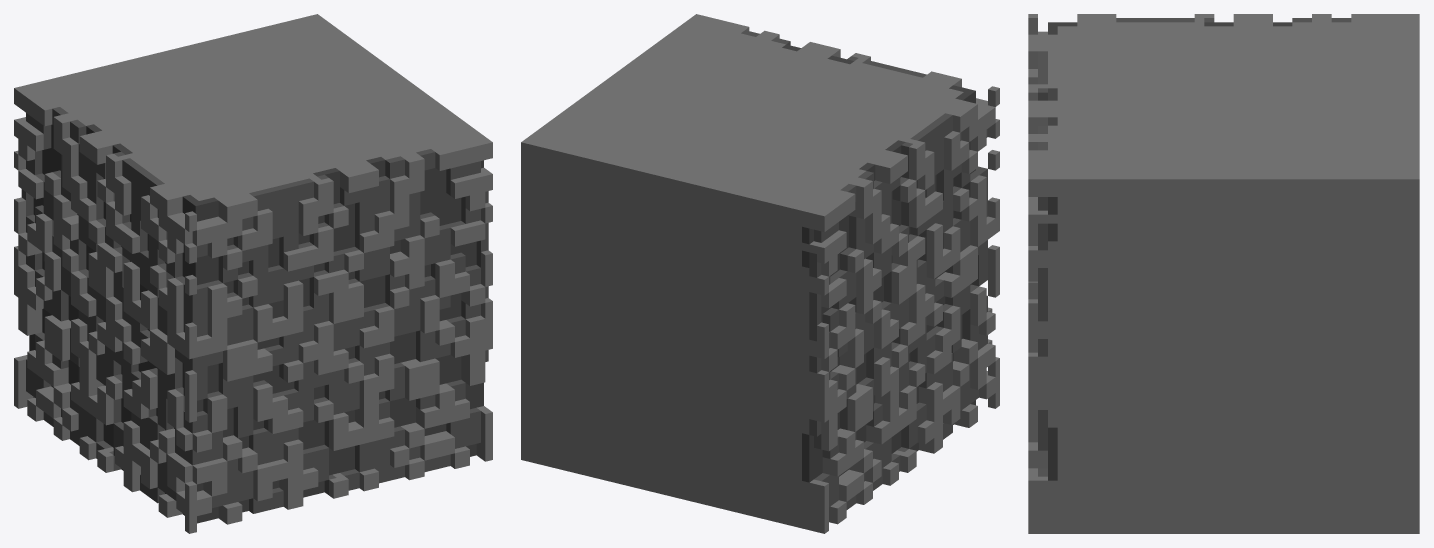
Rendered from maze.vox.obj.
The picture shows the model from 3 angles, left to right: view 1: azimuth 30°, elevation 25°; view 2: azimuth 150°, elevation 25°; view 3: azimuth 270°, elevation 25°; orthographic projection. The views are drawn at different scales.
Bounding box in the file's own units: 4 × 4 × 4.
Materials: 1 (1 with a texture image).
